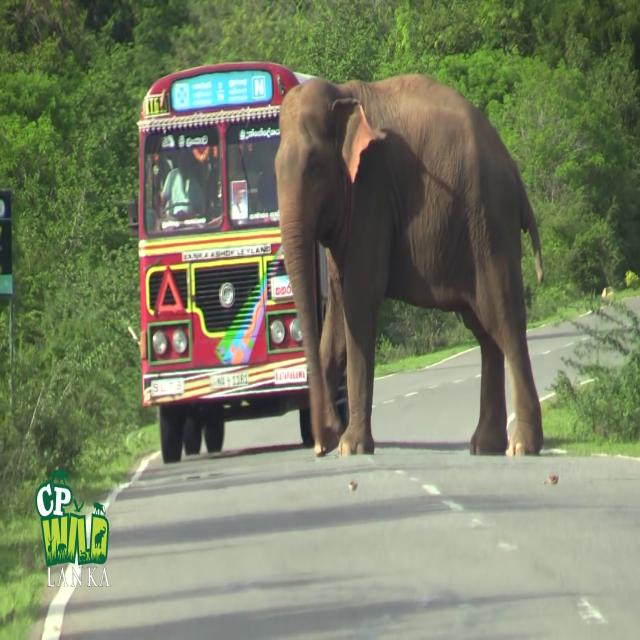Elephant: (274, 71, 544, 458)
